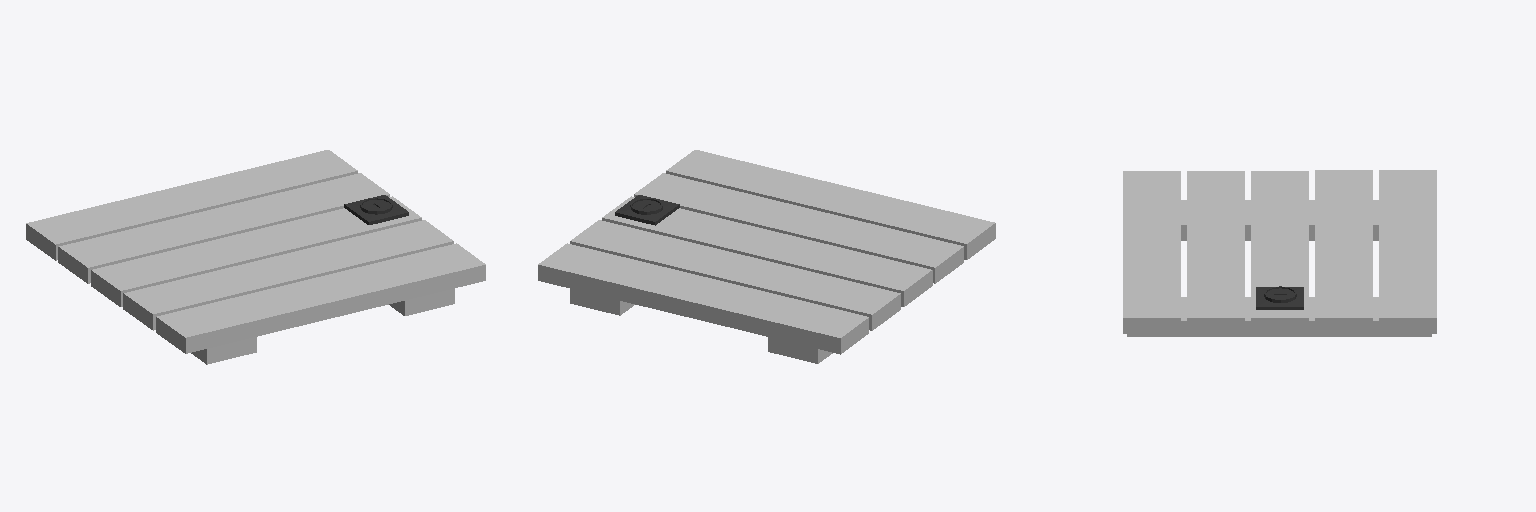
The model's file is bench2_door.obj.
3 renders of one model, left to right at view 1: azimuth 30°, elevation 25°; view 2: azimuth 150°, elevation 25°; view 3: azimuth 270°, elevation 25°, orthographic.
Parts seen in each view (by area): view 1: Cube.001; view 2: Cube.001; view 3: Cube.001.
Boxes of the visible parts, <box> form: Cube.001: <box>26,150,485,364</box>; Cube.001: <box>538,150,995,363</box>; Cube.001: <box>1123,170,1436,336</box>.
Size of the model in its own units: 0.4894 by 0.0672 by 0.4401.